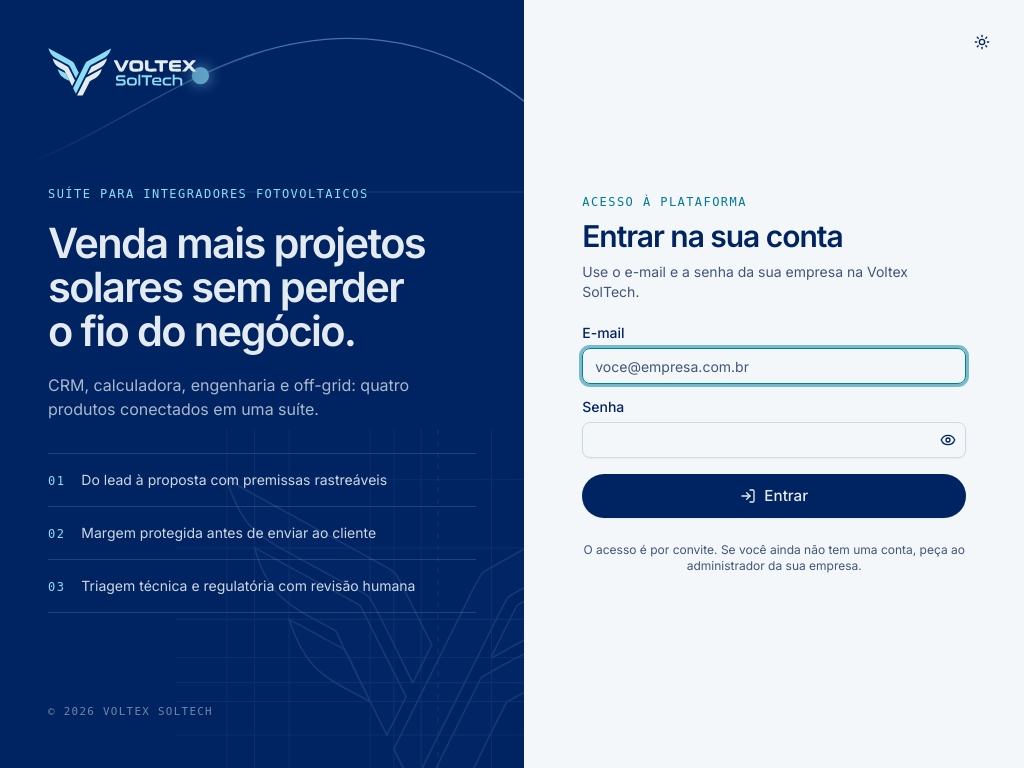
LoginPage › status 429 mostra a mensagem apropriada
Expected: the heading "Entrar na sua conta" is shown, [582, 218, 842, 254]
Type "owner@voltex.test" into the field labelled "E-mail" at (774, 366), box [582, 348, 966, 384]
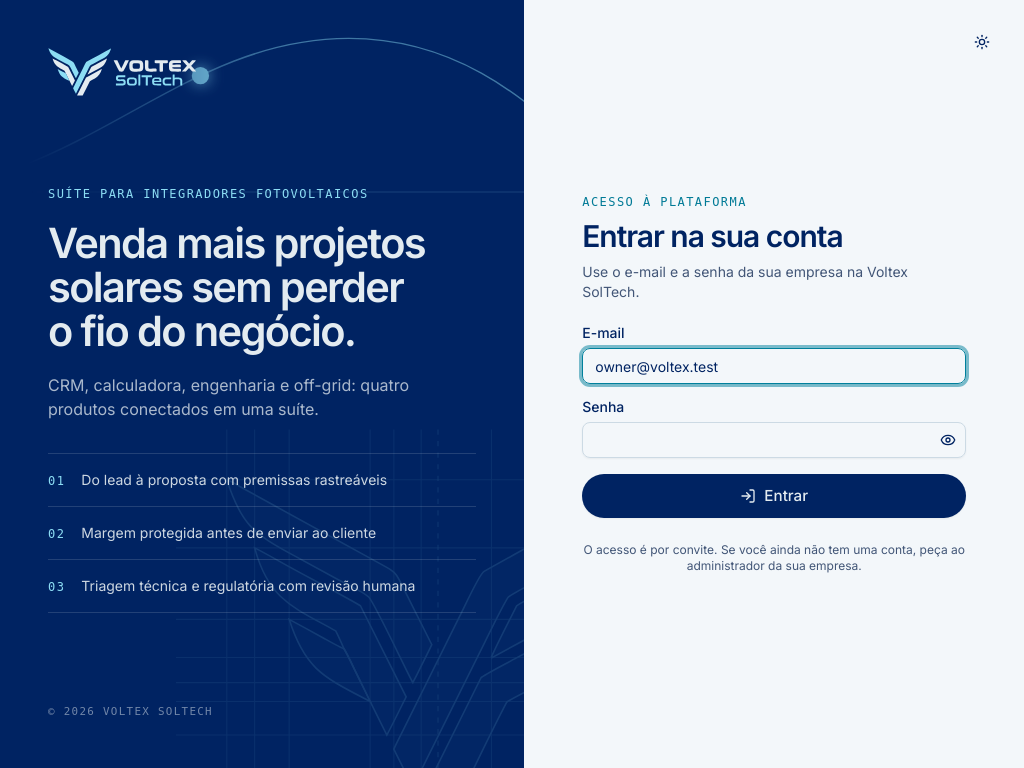
Type "Voltex@2026" into the password field labelled "Senha" at (774, 440), box [582, 422, 966, 458]
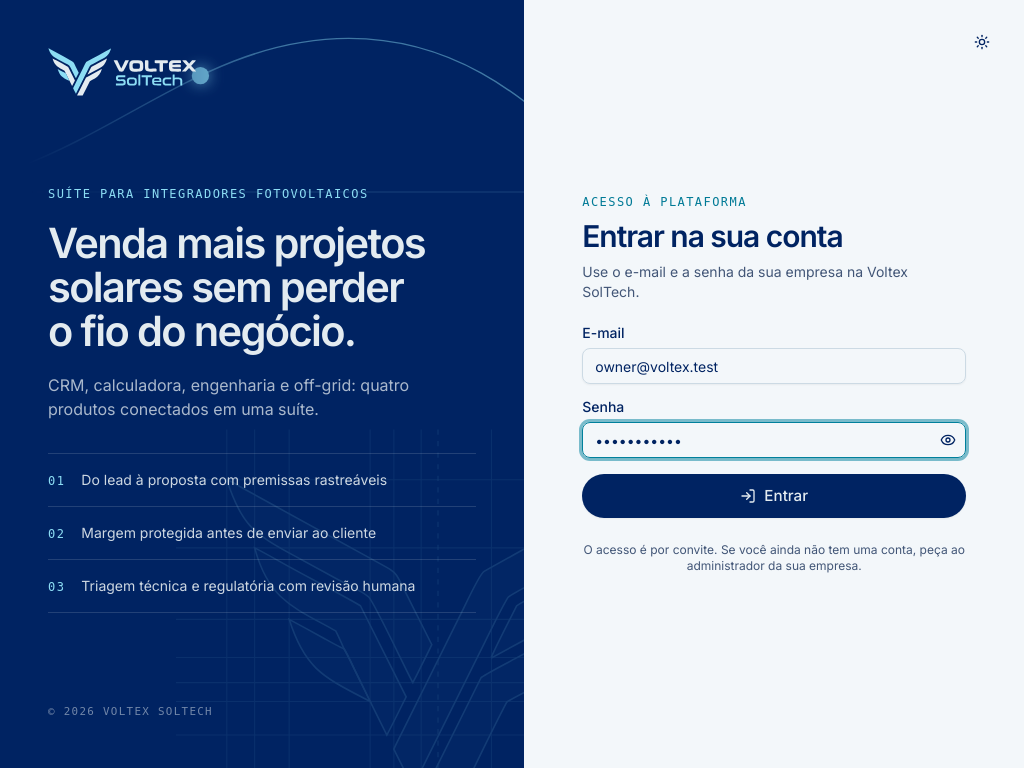
Click the button "Entrar" at (774, 496), box [582, 474, 966, 518]
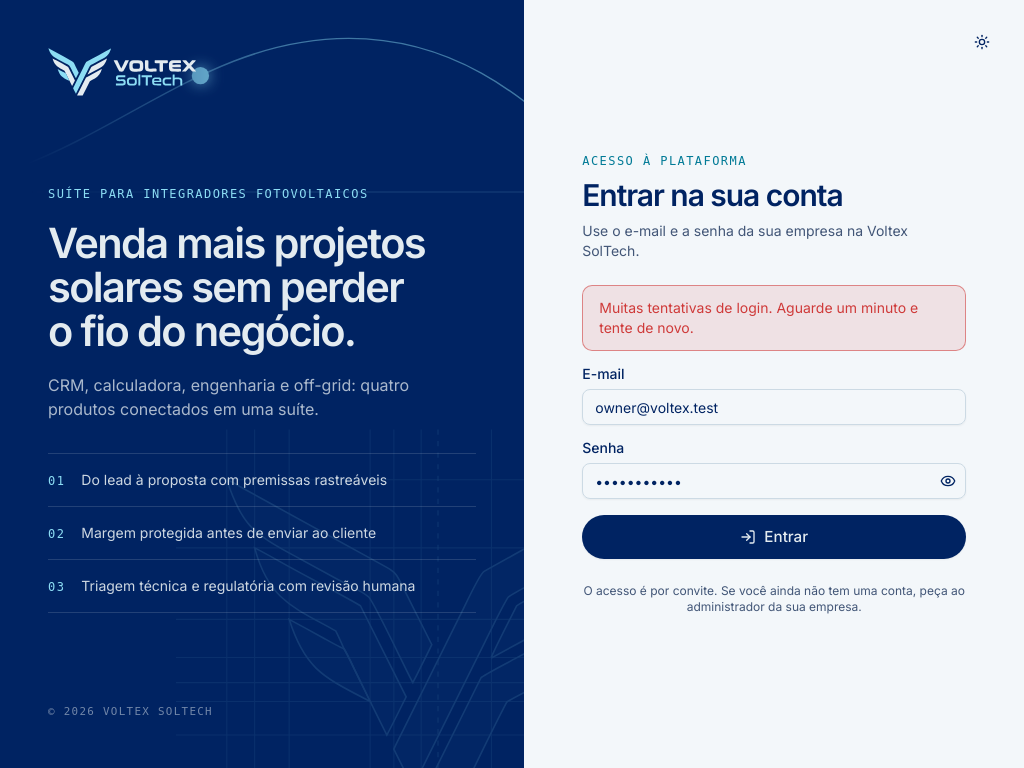
Expected: the text "Muitas tentativas de login. Aguarde um minuto e tente de novo." is shown, [599, 298, 949, 338]
